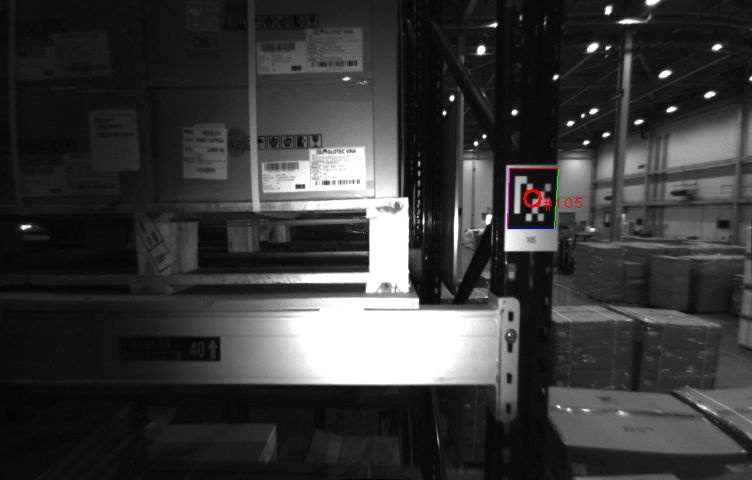True Barcode: (183, 124, 230, 180)
